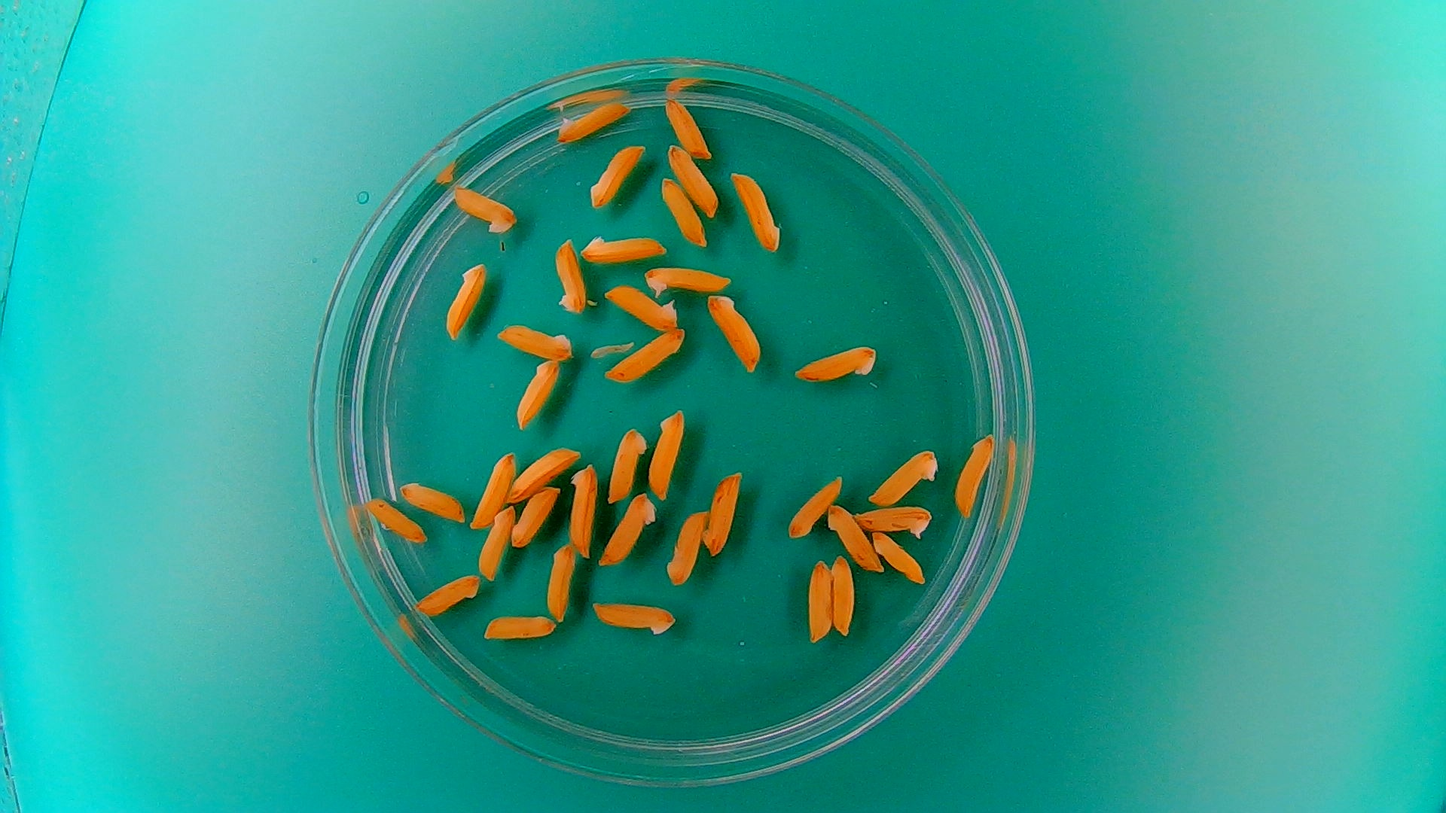no: (604, 325, 690, 384), (704, 291, 764, 373), (864, 445, 941, 507), (505, 442, 584, 502), (597, 492, 658, 568), (728, 169, 782, 252), (825, 499, 883, 574), (951, 430, 998, 519), (792, 339, 880, 385), (666, 142, 720, 216), (701, 467, 744, 559), (470, 449, 518, 531), (784, 473, 842, 540), (588, 142, 646, 209), (647, 406, 687, 501), (590, 596, 677, 639), (663, 505, 708, 588), (451, 181, 519, 235), (552, 97, 631, 143), (508, 483, 563, 549), (444, 260, 489, 339), (575, 229, 671, 266), (868, 528, 928, 586), (514, 357, 561, 431), (658, 175, 706, 247), (494, 320, 577, 361), (475, 502, 517, 583), (661, 95, 712, 159), (566, 461, 599, 558), (411, 571, 480, 617), (361, 497, 428, 544), (397, 480, 466, 523), (553, 236, 589, 316), (543, 540, 577, 624), (804, 556, 834, 644), (828, 553, 857, 638), (481, 611, 557, 643)
yes: (601, 282, 682, 331), (642, 261, 732, 297), (853, 502, 936, 540)
